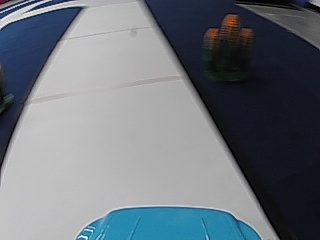corn: (202, 11, 255, 80)
